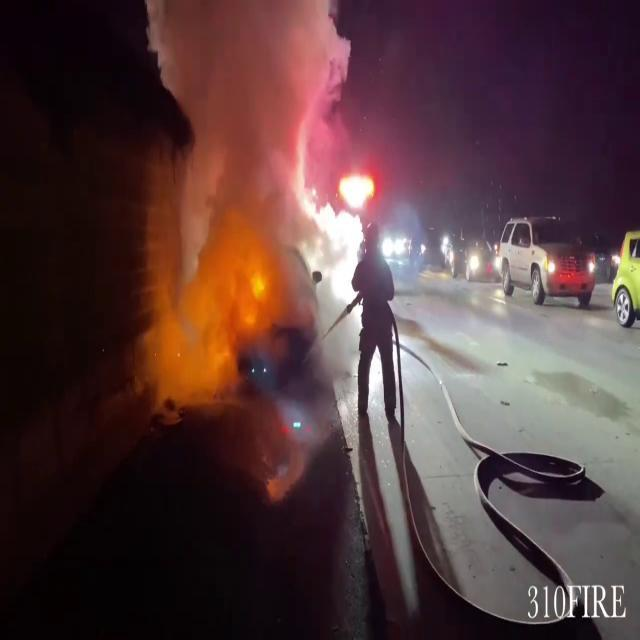Smoke: (136, 0, 367, 385)
